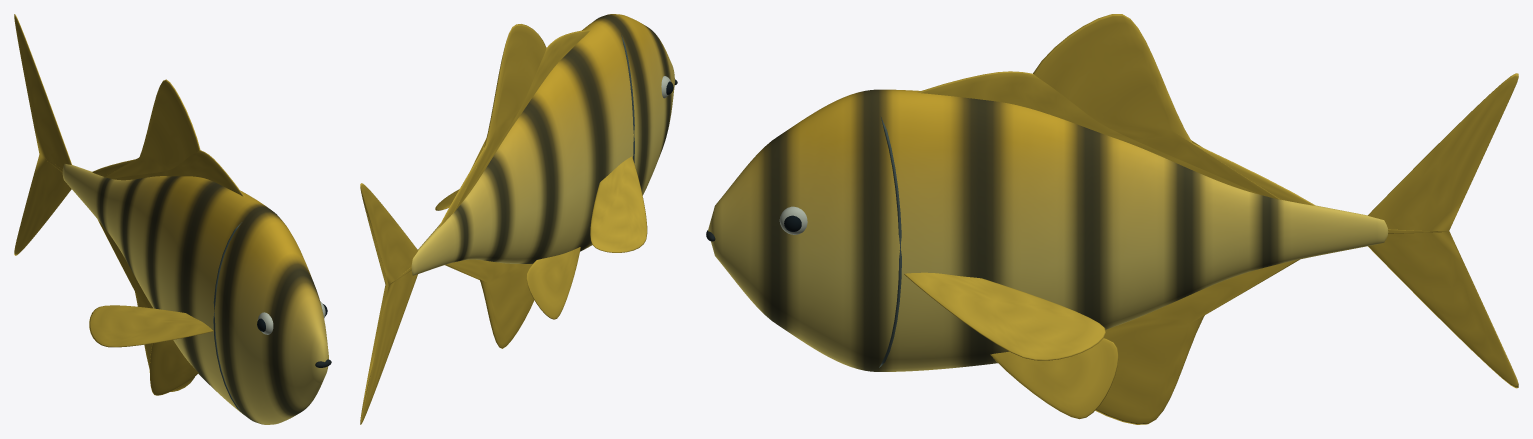
File: golden_trevally.glb
3 renders of one model, left to right at view 1: azimuth 30°, elevation 25°; view 2: azimuth 150°, elevation 25°; view 3: azimuth 270°, elevation 25°, orthographic. The views are drawn at different scales.
Visible parts, largest first — view 1: Kuroshio.golden_trevally.Body; view 2: Kuroshio.golden_trevally.Body; view 3: Kuroshio.golden_trevally.Body.
Boxes of the visible parts, bbox=[...] form: Kuroshio.golden_trevally.Body: bbox=[14, 14, 331, 424]; Kuroshio.golden_trevally.Body: bbox=[360, 14, 677, 424]; Kuroshio.golden_trevally.Body: bbox=[706, 14, 1518, 424].
Bounding box in the file's own units: 0.1456 × 0.2229 × 0.3995.
